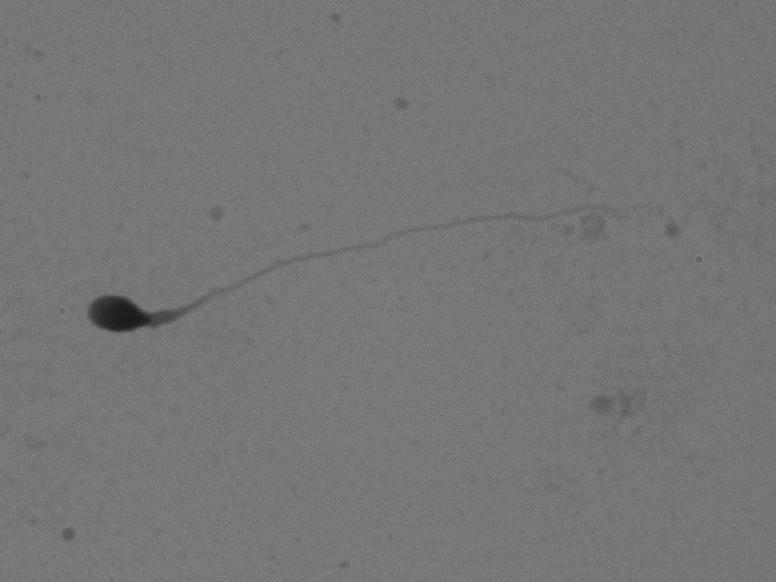Abnormal: (55, 164, 697, 368)
